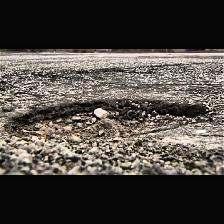pothole: (4, 99, 208, 152)
